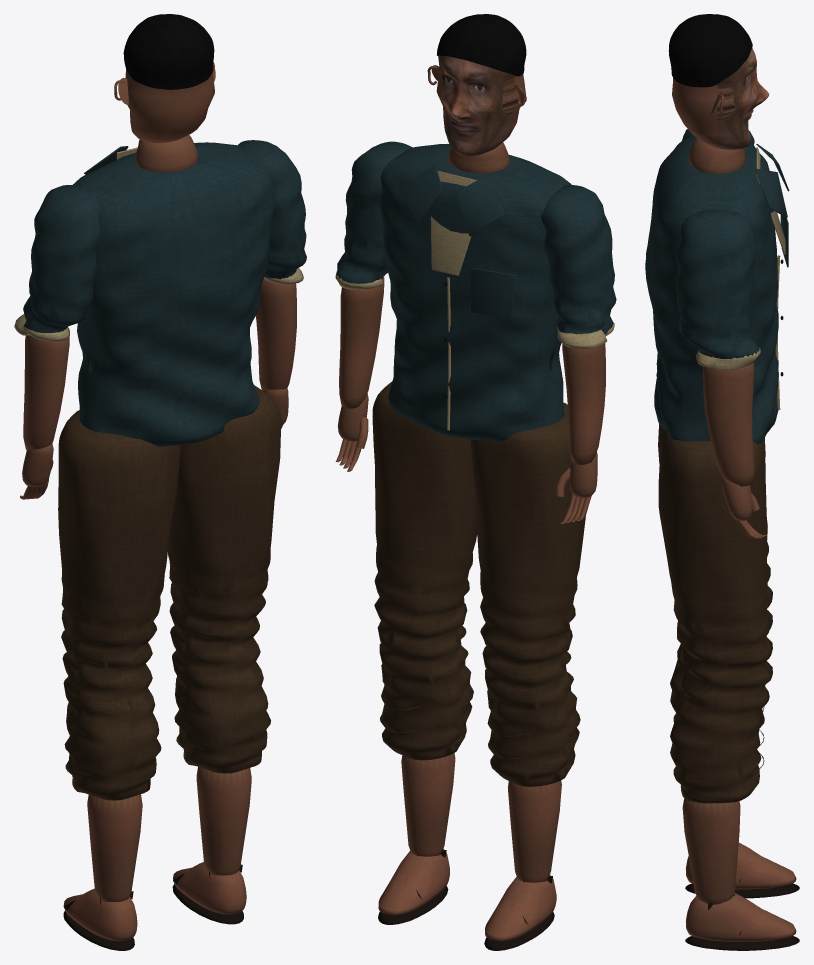
The model's file is witness-congo.glb.
The picture shows the model from 3 angles, left to right: view 1: azimuth 30°, elevation 25°; view 2: azimuth 150°, elevation 25°; view 3: azimuth 270°, elevation 25°; orthographic projection. The views are drawn at different scales.
Visible parts, largest first — view 1: BodySurface, LeftLegSurface, RightLegSurface, LeftArmSurface, RightArmSurface; view 2: BodySurface, LeftLegSurface, RightLegSurface, LeftArmSurface, RightArmSurface; view 3: RightLegSurface, BodySurface, RightArmSurface, LeftLegSurface.
Part boxes in pixels (<box>): BodySurface: <box>73,14,274,446</box>; LeftLegSurface: <box>58,410,180,950</box>; RightLegSurface: <box>168,385,281,924</box>; LeftArmSurface: <box>14,185,100,499</box>; RightArmSurface: <box>238,140,306,428</box>; BodySurface: <box>379,14,571,441</box>; LeftLegSurface: <box>470,402,585,950</box>; RightLegSurface: <box>372,381,477,924</box>; LeftArmSurface: <box>541,185,616,524</box>; RightArmSurface: <box>335,141,412,471</box>; RightLegSurface: <box>658,428,799,950</box>; BodySurface: <box>645,14,789,443</box>; RightArmSurface: <box>675,210,766,538</box>; LeftLegSurface: <box>658,424,799,898</box>.
Size of the model in its own units: 0.553 by 1.75 by 0.2729.
7 materials, 7 textured.
